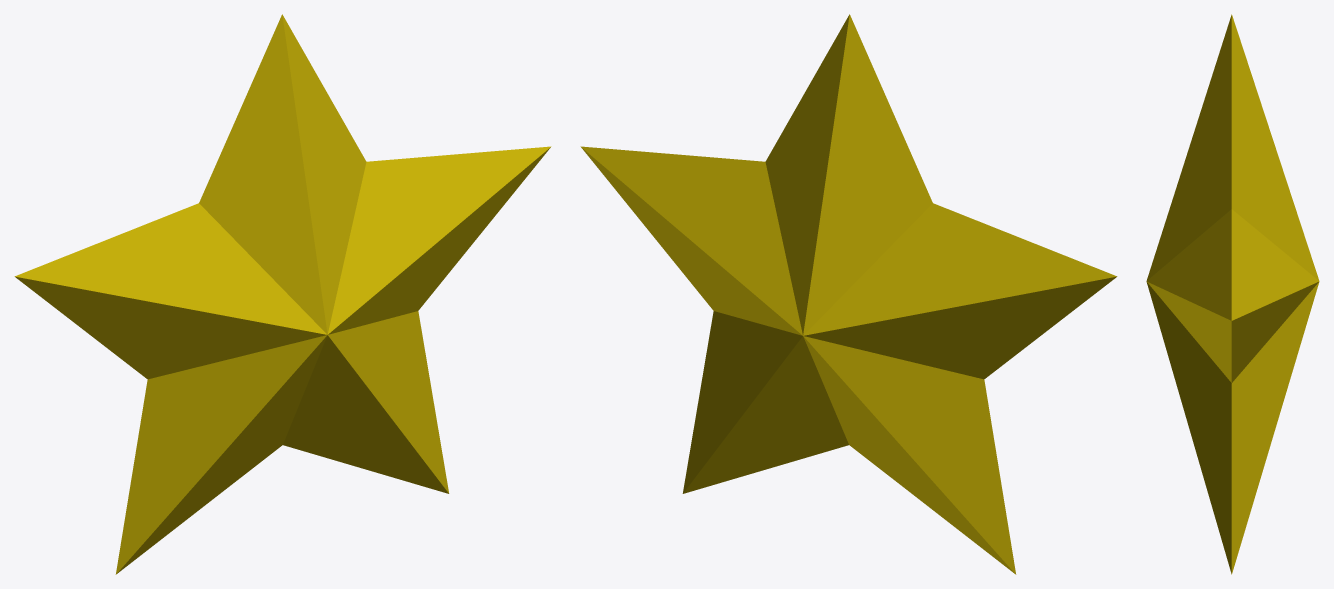
File: Star.fbx
3 views of the same model, side by side, from view 1: azimuth 30°, elevation 25°; view 2: azimuth 150°, elevation 25°; view 3: azimuth 270°, elevation 25° (orthographic). The views are drawn at different scales.
Visible parts, largest first — view 1: Plane_001; view 2: Plane_001; view 3: Plane_001.
Part boxes in pixels (x1,y1,x2,y2): Plane_001: [14, 14, 551, 574]; Plane_001: [580, 14, 1117, 574]; Plane_001: [1146, 14, 1319, 574].
Bounding box in the file's own units: 4.29 × 3.97 × 1.28.
